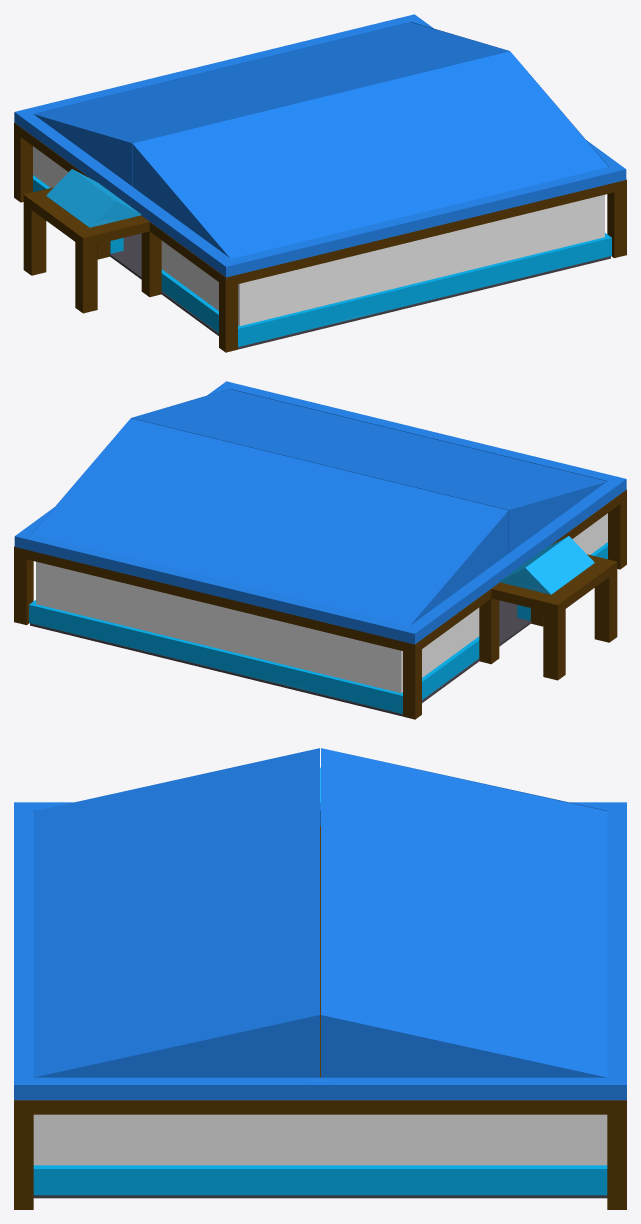
File: GreenHouse.fbx
3 views of the same model, one above another, from view 1: azimuth 30°, elevation 25°; view 2: azimuth 150°, elevation 25°; view 3: azimuth 270°, elevation 25° (orthographic). The views are drawn at different scales.
Visible parts, largest first — view 1: Cube; view 2: Cube; view 3: Cube.
Boxes of the visible parts, box(x1,y1,x2,y2) form: Cube: box(14, 14, 626, 352); Cube: box(14, 381, 626, 719); Cube: box(14, 748, 626, 1209).
Bounding box in the file's own units: 4709 × 1244 × 3693.
1 material, 1 textured.
